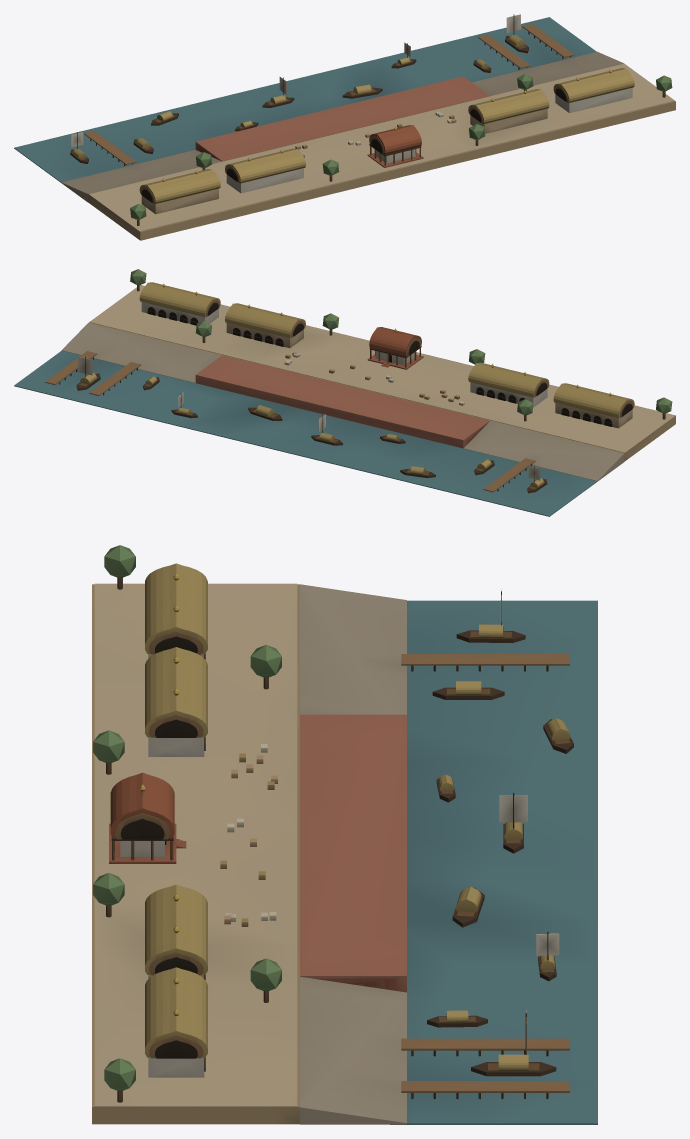
Rendered from harbour.glb.
The picture shows the model from 3 angles, top to bottom: view 1: azimuth 30°, elevation 25°; view 2: azimuth 150°, elevation 25°; view 3: azimuth 270°, elevation 25°; orthographic projection. The views are drawn at different scales.
Parts seen in each view (by area): view 1: p0_bank and ghat, p2_warehouses, p1_jetties and boats, p3_trees; view 2: p0_bank and ghat, p2_warehouses, p1_jetties and boats, p3_trees; view 3: p0_bank and ghat, p2_warehouses, p1_jetties and boats, p3_trees.
Part boxes in pixels (box(x1,y1,x2,y2)): p0_bank and ghat: box(14, 17, 675, 240); p2_warehouses: box(139, 68, 634, 214); p1_jetties and boats: box(70, 14, 574, 166); p3_trees: box(130, 73, 672, 225); p0_bank and ghat: box(14, 285, 675, 516); p2_warehouses: box(139, 282, 634, 428); p1_jetties and boats: box(45, 351, 547, 493); p3_trees: box(130, 269, 672, 421); p0_bank and ghat: box(92, 583, 597, 1124); p2_warehouses: box(109, 563, 277, 1077); p1_jetties and boats: box(401, 589, 573, 1099); p3_trees: box(93, 545, 281, 1102).
Bounding box in the file's own units: 222 × 15.74 × 90.
